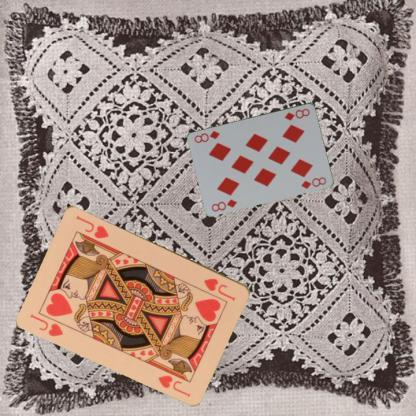8d: (209, 196, 238, 212), (282, 106, 311, 121)
Jh: (27, 311, 64, 338), (202, 275, 237, 302)
